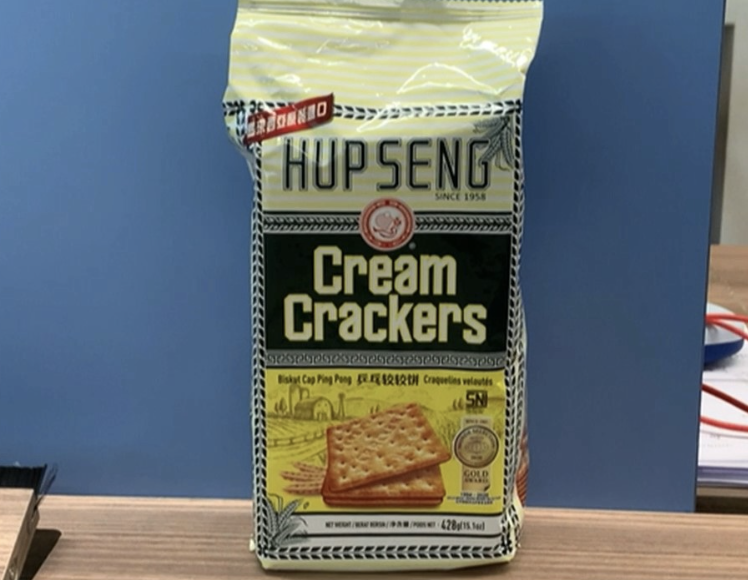crackers_400g-499g: (262, 112, 510, 549)
